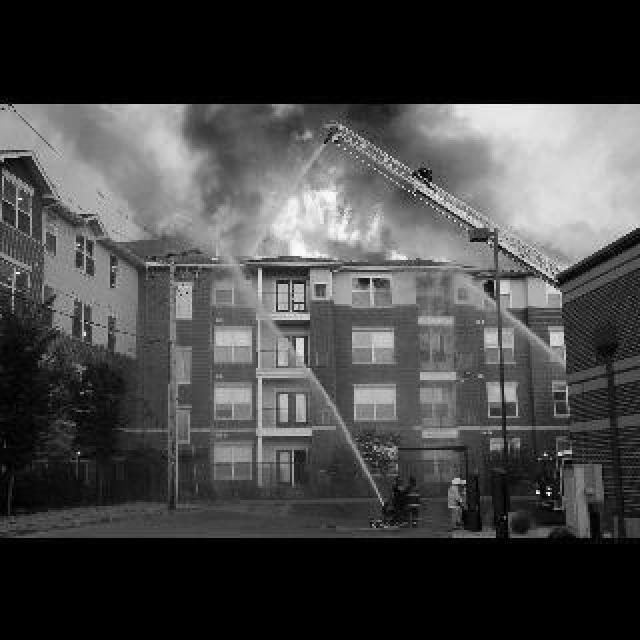fire: (192, 118, 422, 262)
smoke: (60, 108, 182, 236)
